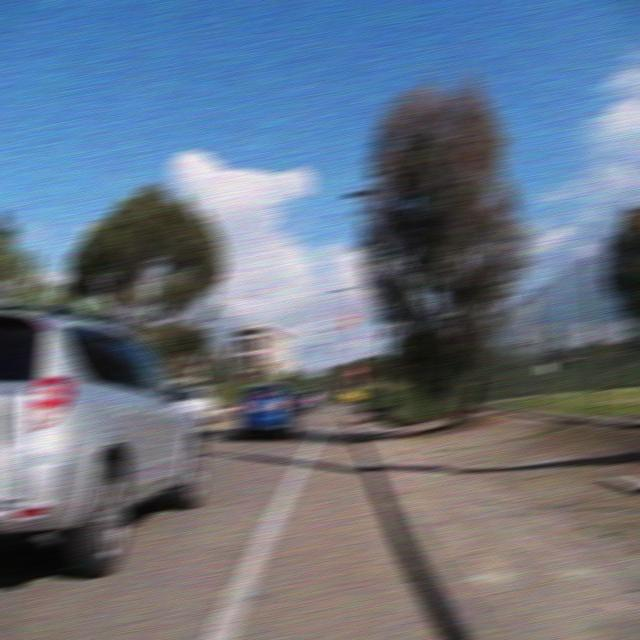stop_sign: (346, 364, 364, 380)
